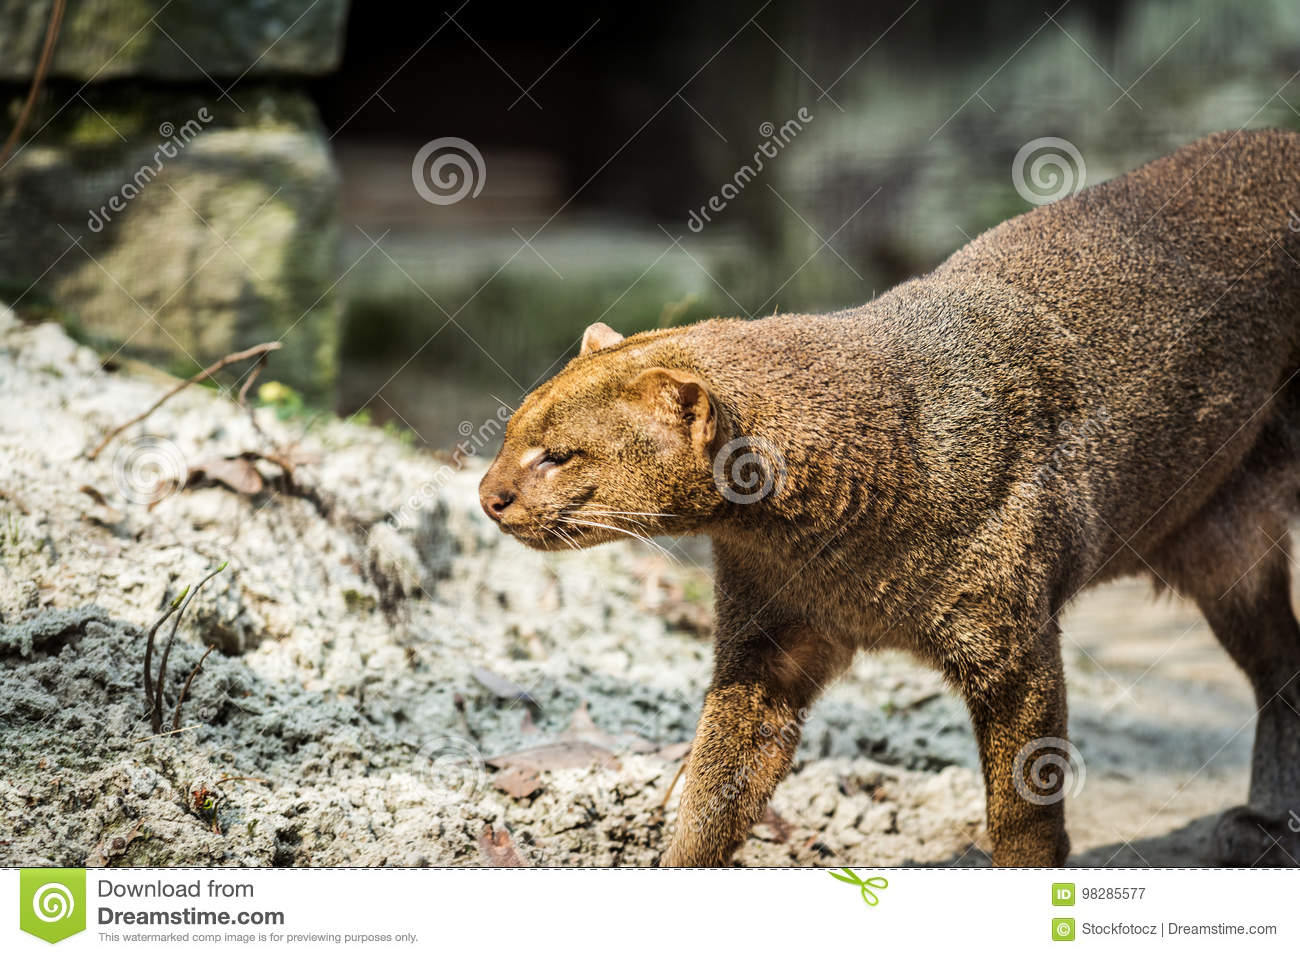Jaguarundi: (463, 121, 1278, 850)
